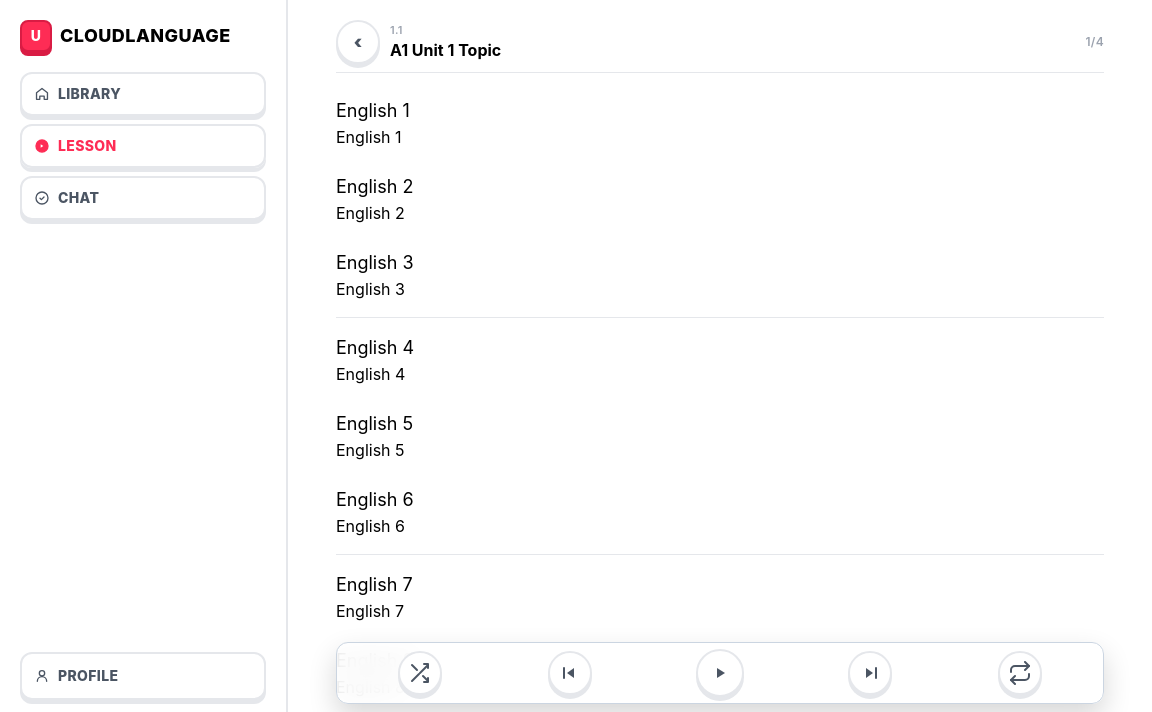
Test: App lesson navigation guard › repeat-all wraps within current stage when previous is clicked at stage start
Expected: the button named "Next" is shown, [848,651,892,695]
Click the button "Library" at (143, 94), box [20,72,266,116]
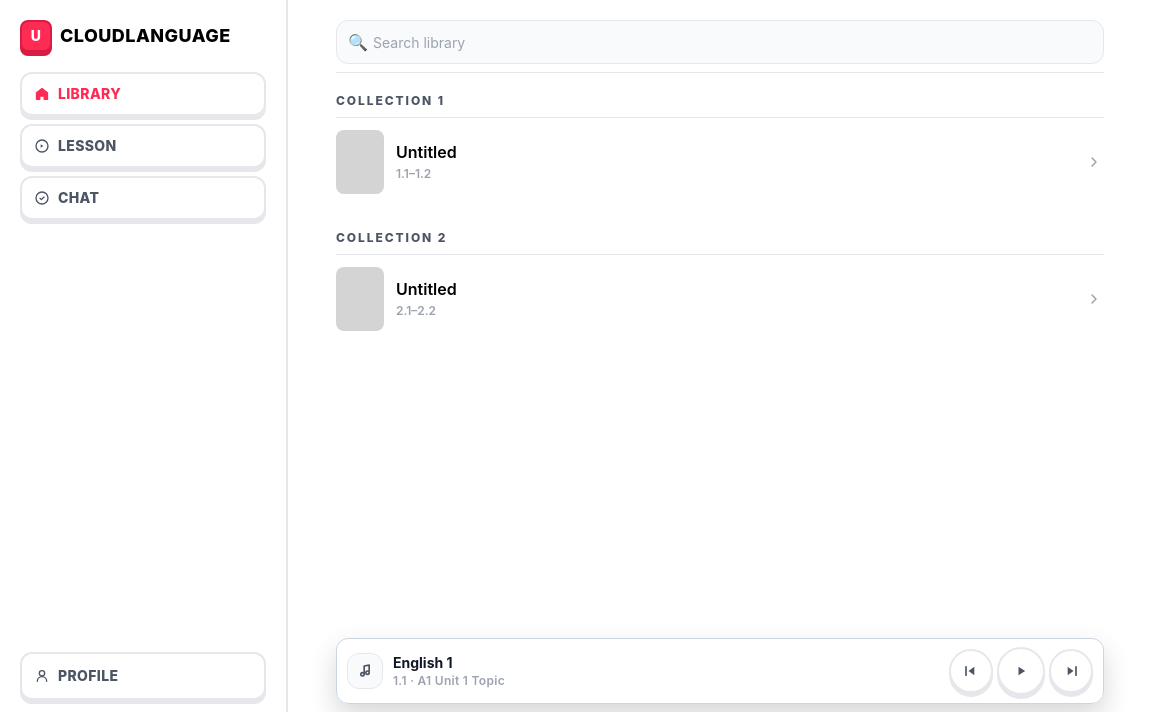
Click the button with aria-label "open group" at (360, 299), box [336,255,1104,343]
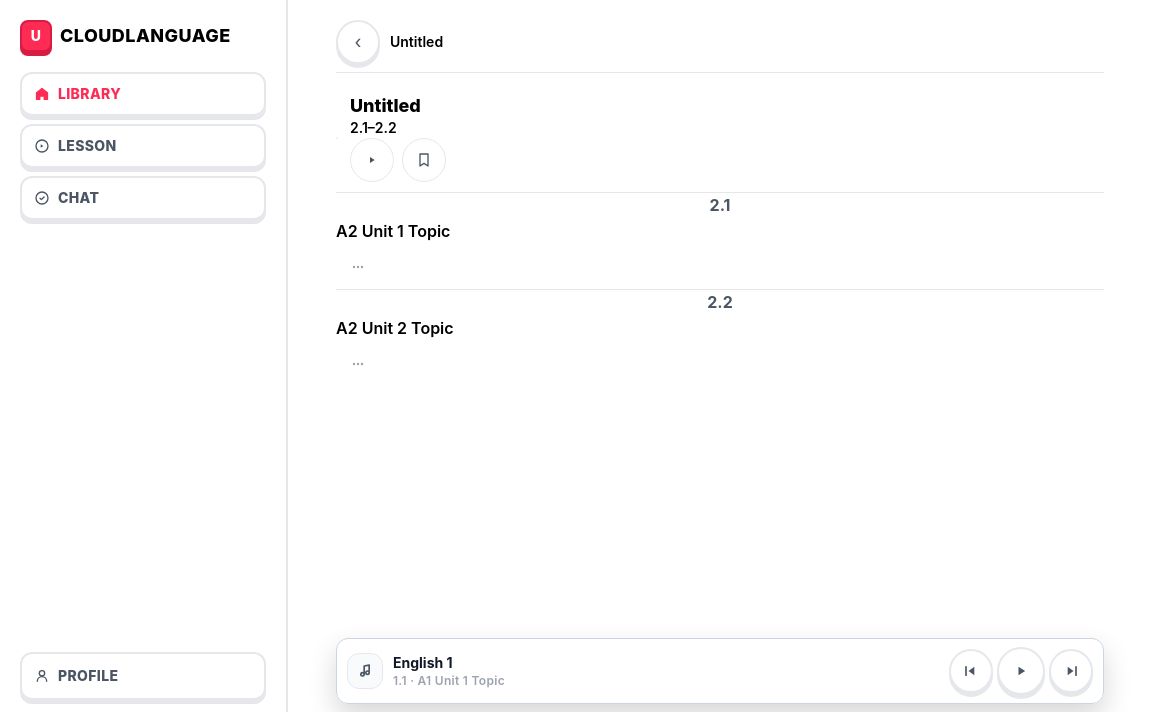
Click the button "2.1 A2 Unit 1 Topic" at (393, 230), box [336,194,730,288]
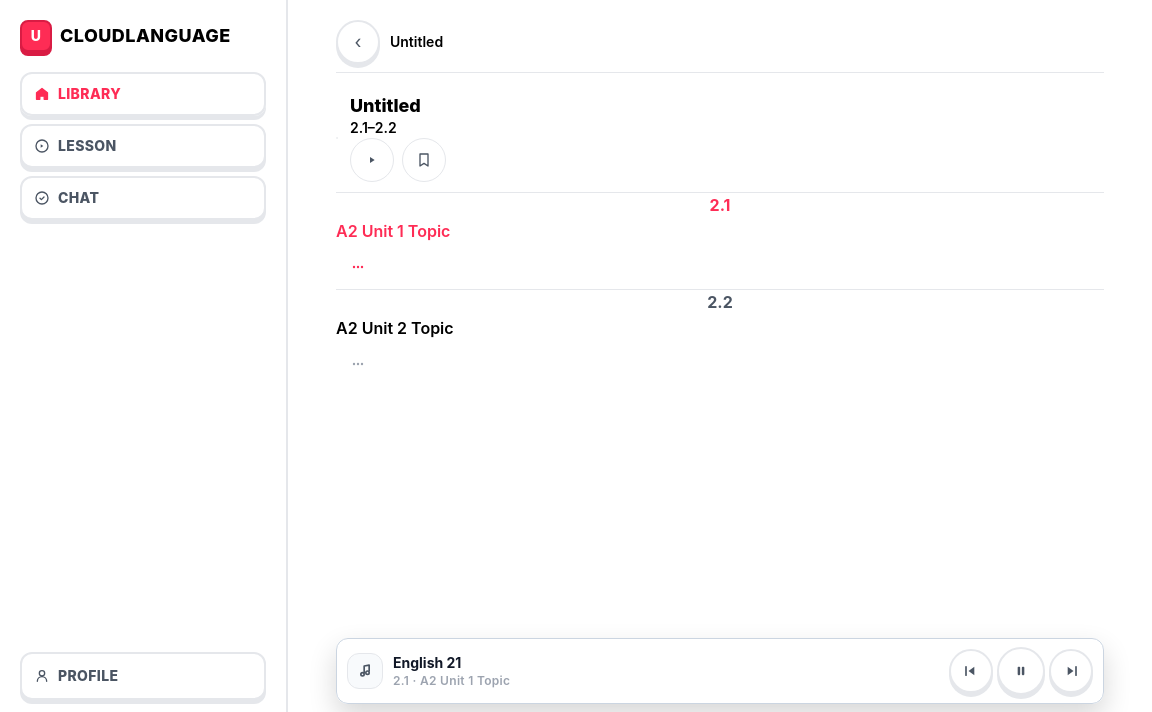
Click the button "Lesson" at (143, 146), box [20,124,266,168]
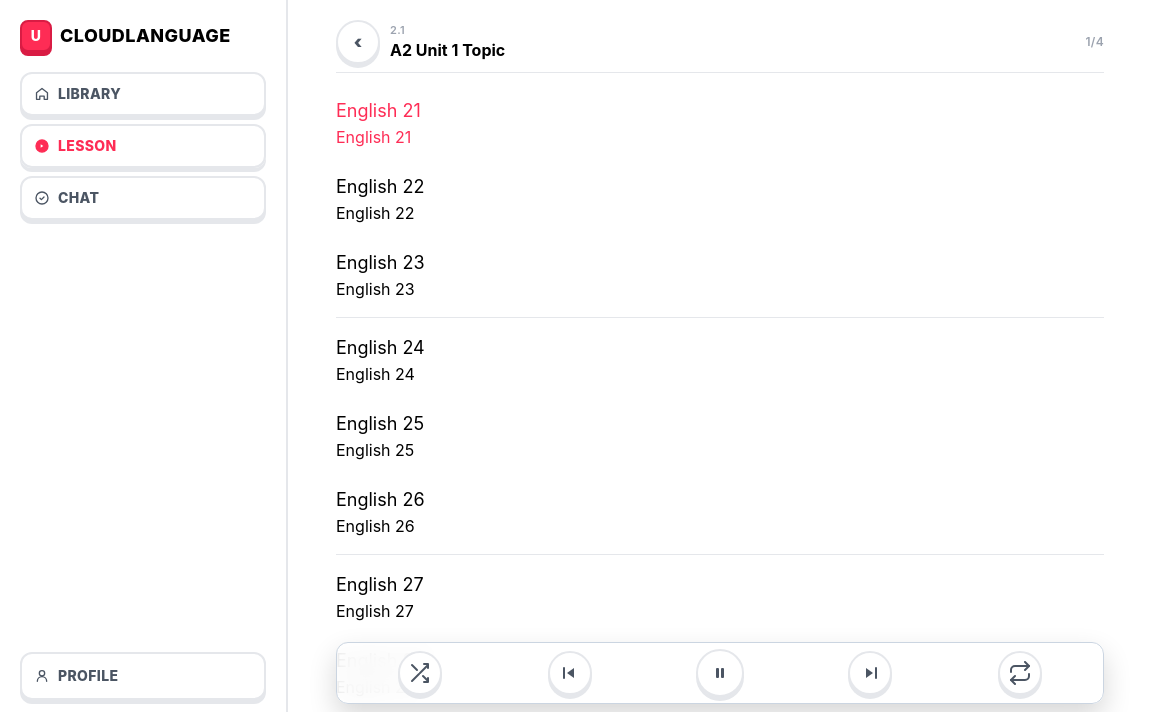
Expected: the text "A2 Unit 1 Topic" is shown, [390,38,505,62]
Expected: the text "2.1" is shown, [390,23,405,37]
Expected: the text "1/4" is shown, [1086,34,1104,50]
Click the button named "Enable repeat all" at (1020, 673), box [998,651,1042,695]
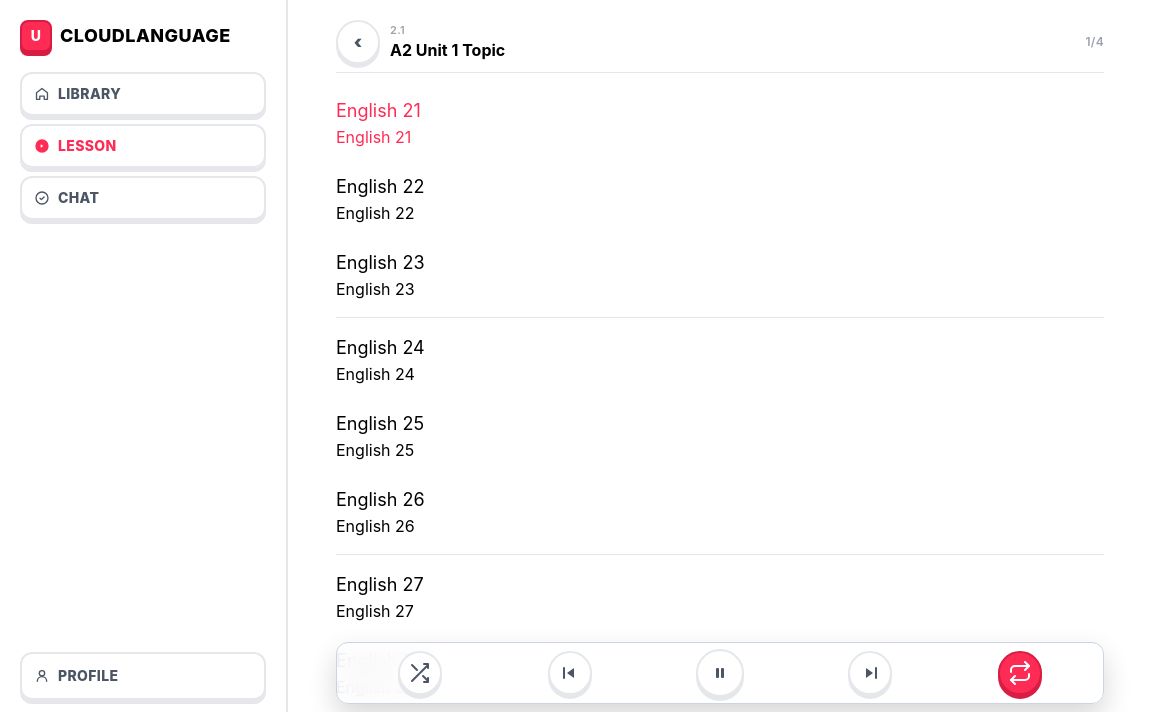
Click the button named "Previous" at (570, 673), box [548,651,592,695]
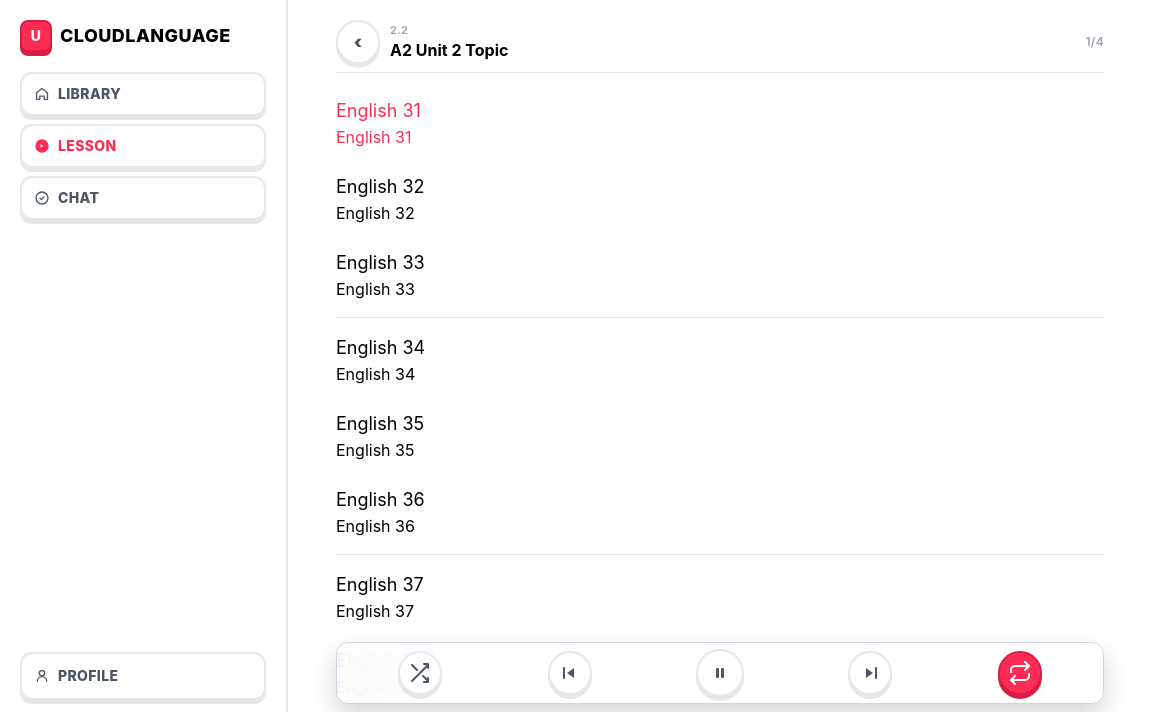
Expected: the text "1/4" is shown, [1086,34,1104,50]
Expected: the text "A2 Unit 2 Topic" is shown, [390,38,508,62]
Expected: the text "2.2" is shown, [390,23,408,37]
